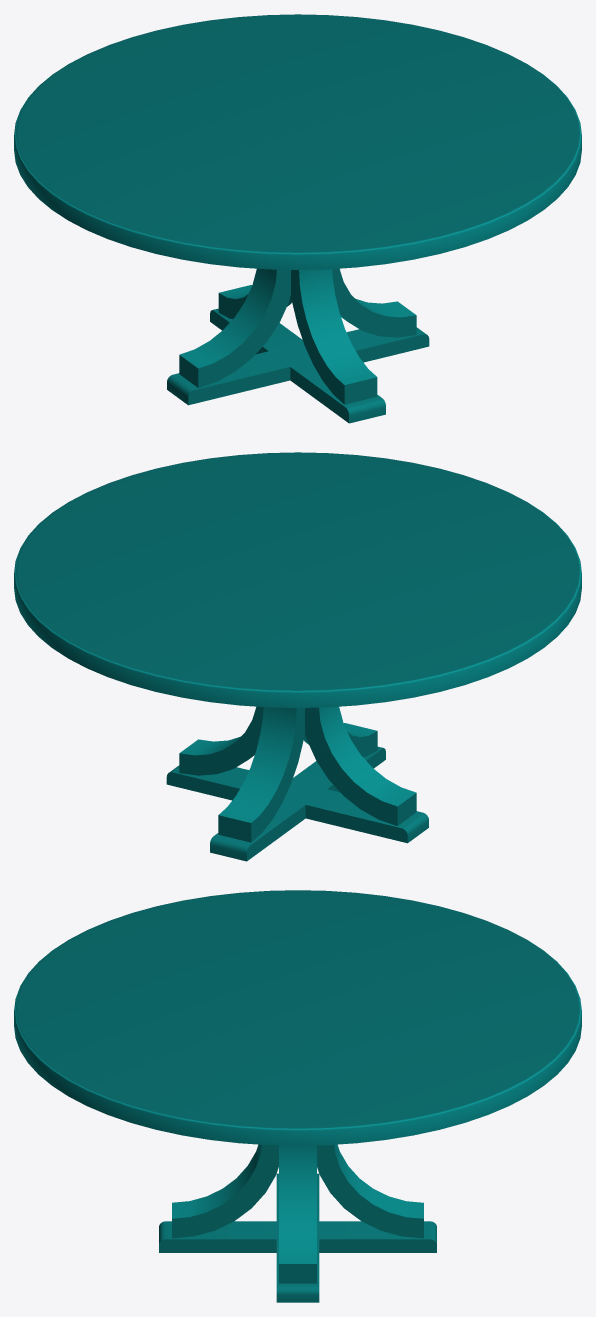
Rendered from Round table.fbx.
The picture shows the model from 3 angles, top to bottom: view 1: azimuth 30°, elevation 25°; view 2: azimuth 150°, elevation 25°; view 3: azimuth 270°, elevation 25°; orthographic projection.
Visible parts, largest first — view 1: Round table; view 2: Round table; view 3: Round table.
Part boxes in pixels (bbox=[...]): Round table: bbox=[14, 14, 581, 423]; Round table: bbox=[14, 452, 581, 861]; Round table: bbox=[14, 890, 581, 1302].
Bounding box in the file's own units: 163 × 74.36 × 163.
Materials: 1 (1 with a texture image).
